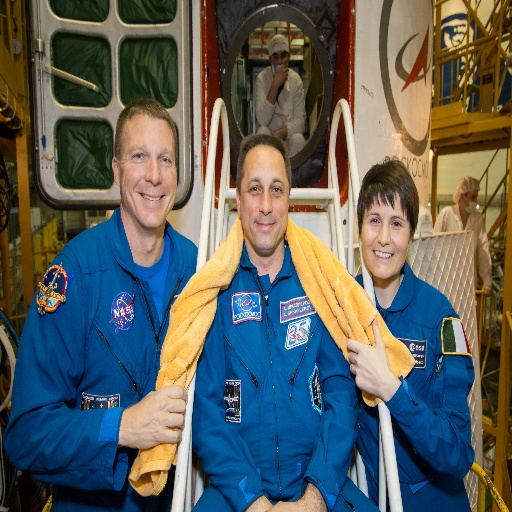hand: (119, 389, 200, 456), (347, 313, 391, 396), (265, 498, 307, 511), (271, 60, 290, 86), (481, 284, 492, 295), (272, 131, 280, 140)
